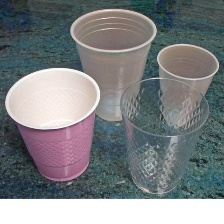glass: (2, 64, 103, 183), (117, 72, 212, 196), (66, 4, 161, 126), (154, 41, 222, 130)
